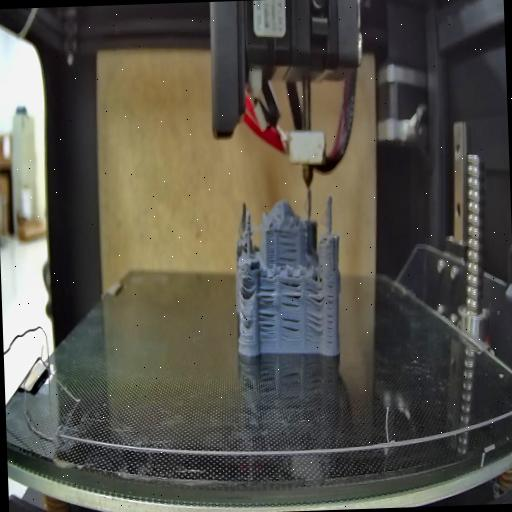cracks: (257, 286, 276, 340), (323, 282, 336, 350), (275, 233, 298, 264), (278, 280, 301, 310), (278, 316, 302, 341), (305, 281, 324, 306), (236, 277, 254, 302), (304, 312, 322, 336), (240, 306, 252, 328)
